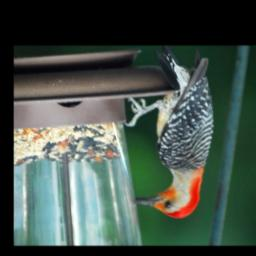Woodpecker: (125, 47, 218, 219)
